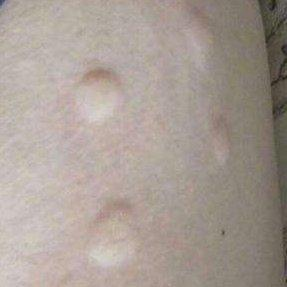Mosquito: (82, 195, 143, 276), (66, 66, 125, 126), (213, 115, 232, 165)
